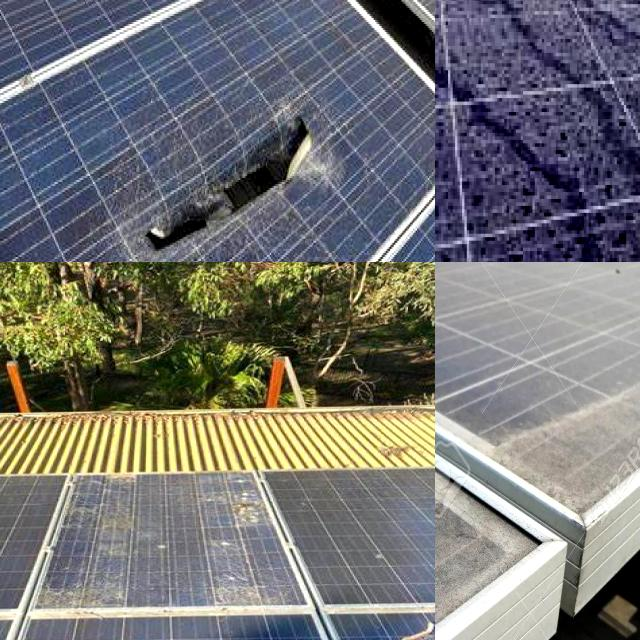bird: (42, 564, 139, 612), (194, 560, 282, 612), (50, 522, 149, 562), (70, 467, 160, 507), (230, 476, 274, 538)
dust: (435, 434, 529, 619), (454, 82, 584, 196), (435, 374, 533, 513), (435, 262, 540, 391), (576, 313, 640, 503), (451, 0, 579, 83), (435, 262, 553, 305), (435, 129, 472, 262), (586, 185, 640, 262), (435, 0, 470, 104), (601, 78, 640, 151), (498, 225, 564, 262), (435, 262, 537, 282)
hotspot: (92, 110, 352, 258)
